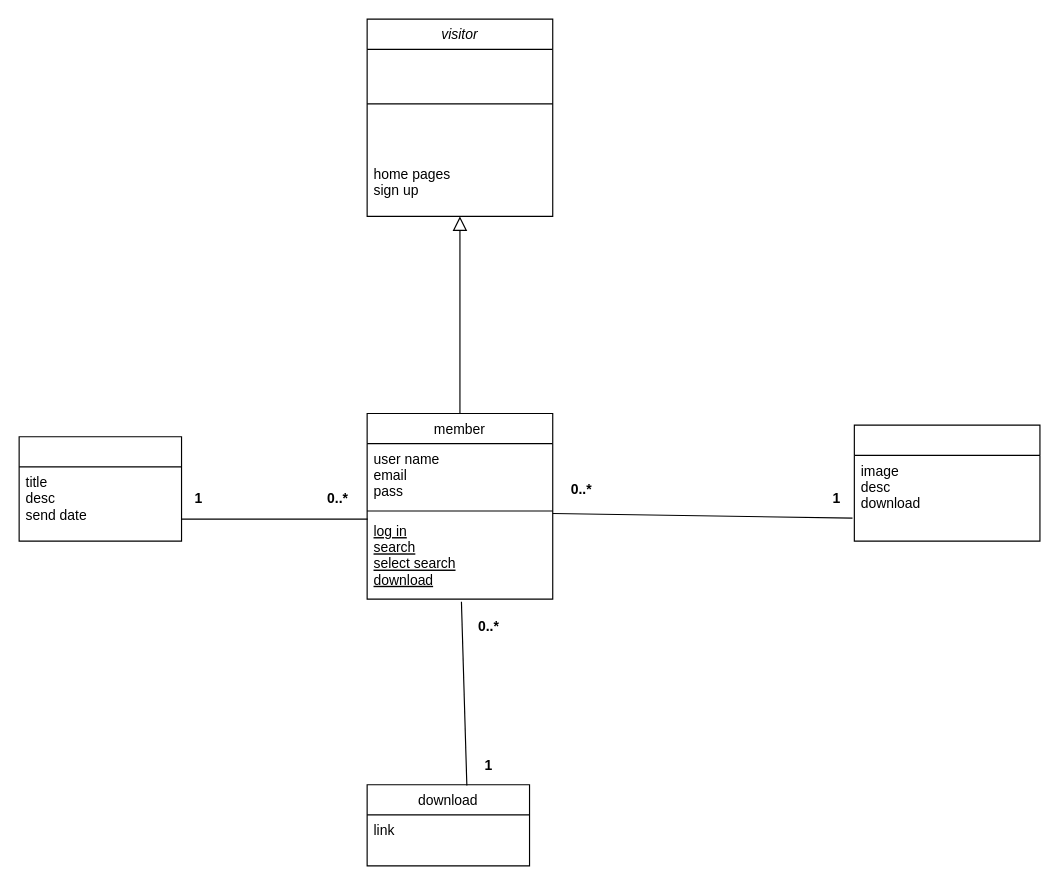
Some shapes in this 1059 by 885 pixel diagram are drawn without their labels. Here are the shapes that lost their labels. From the top down, the box of each, then its label:
(18, 436, 182, 541): contact us
(853, 424, 1040, 541): search data
